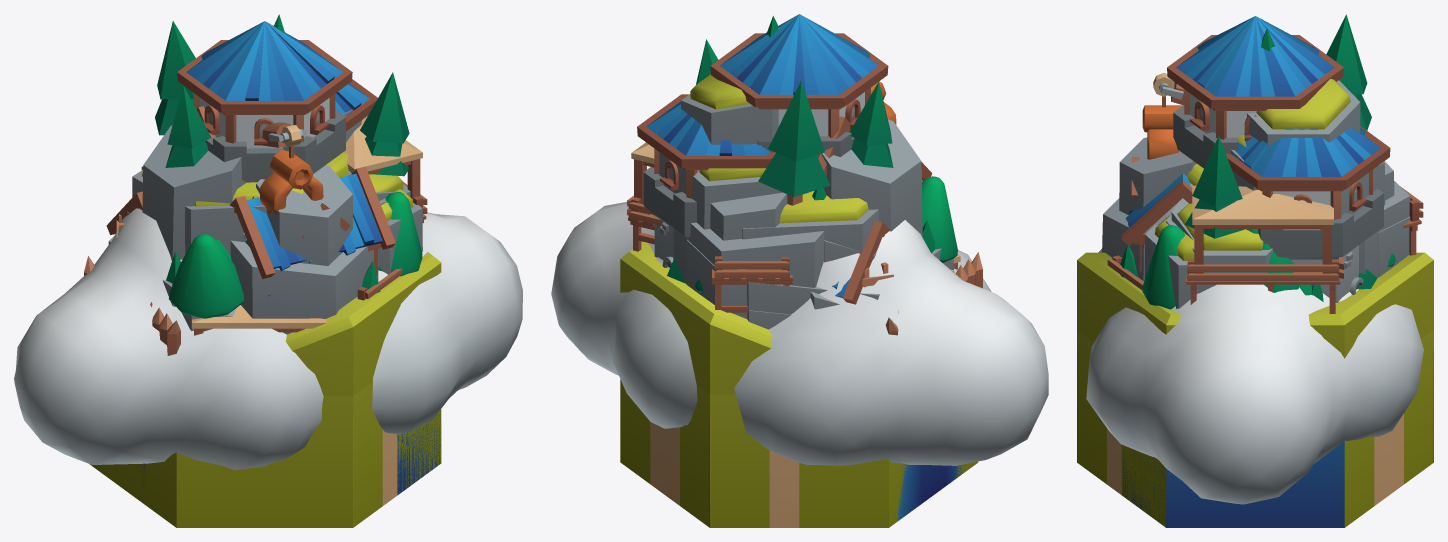
File: lands.glb
3 views of the same model, side by side, from view 1: azimuth 30°, elevation 25°; view 2: azimuth 150°, elevation 25°; view 3: azimuth 270°, elevation 25° (orthographic).
Visible parts, largest first — view 1: cloud_big, mountain_C, hex_river_B, building_tower_A_top_blue, mountain_A_grass_trees, hex_grass_sloped_low, trees_B_large, building_watermill_blue, building_scaffolding, hex_river_crossing_A, building_tower_A_blue, building_lumbermill_top_blue (+8 smaller); view 2: cloud_big, mountain_C, mountain_A_grass_trees, building_tower_A_top_blue, building_archeryrange_blue, mountain_B_grass, hex_river_crossing_A, hex_grass_sloped_low, hex_coast_E, building_scaffolding, hex_road_E, hex_road_B (+9 smaller); view 3: cloud_big, building_archeryrange_blue, hex_grass_sloped_low, building_tower_A_top_blue, building_scaffolding, mountain_B_grass, hex_coast_D, mountain_C, mountain_A_grass_trees, hex_road_B, hex_road_E, hex_river_crossing_A (+10 smaller).
Boxes of the visible parts, x1=… form: cloud_big: x1=14, y1=208, x2=522, y2=470; mountain_C: x1=141, y1=125, x2=394, y2=334; hex_river_B: x1=140, y1=396, x2=353, y2=527; building_tower_A_top_blue: x1=177, y1=21, x2=352, y2=148; mountain_A_grass_trees: x1=132, y1=14, x2=422, y2=274; hex_grass_sloped_low: x1=285, y1=252, x2=441, y2=483; trees_B_large: x1=169, y1=191, x2=422, y2=318; building_watermill_blue: x1=230, y1=166, x2=395, y2=296; building_scaffolding: x1=116, y1=116, x2=427, y2=335; hex_river_crossing_A: x1=353, y1=382, x2=397, y2=527; building_tower_A_blue: x1=205, y1=109, x2=345, y2=182; building_lumbermill_top_blue: x1=196, y1=106, x2=323, y2=214; cloud_big: x1=551, y1=202, x2=1048, y2=465; mountain_C: x1=673, y1=119, x2=953, y2=287; mountain_A_grass_trees: x1=696, y1=16, x2=921, y2=329; building_tower_A_top_blue: x1=710, y1=14, x2=888, y2=138; building_archeryrange_blue: x1=637, y1=94, x2=889, y2=304; mountain_B_grass: x1=659, y1=74, x2=941, y2=320; hex_river_crossing_A: x1=710, y1=394, x2=799, y2=527; hex_grass_sloped_low: x1=620, y1=241, x2=772, y2=394; hex_coast_E: x1=799, y1=459, x2=888, y2=527; building_scaffolding: x1=627, y1=142, x2=960, y2=312; hex_road_E: x1=620, y1=379, x2=679, y2=504; hex_road_B: x1=674, y1=385, x2=709, y2=527; cloud_big: x1=1086, y1=249, x2=1423, y2=504; building_archeryrange_blue: x1=1226, y1=126, x2=1390, y2=302; hex_grass_sloped_low: x1=1077, y1=252, x2=1433, y2=527; building_tower_A_top_blue: x1=1167, y1=16, x2=1343, y2=140; building_scaffolding: x1=1101, y1=185, x2=1423, y2=313; mountain_B_grass: x1=1166, y1=74, x2=1385, y2=292; hex_coast_D: x1=1123, y1=351, x2=1433, y2=527; mountain_C: x1=1102, y1=137, x2=1410, y2=281; mountain_A_grass_trees: x1=1145, y1=14, x2=1371, y2=308; hex_road_B: x1=1374, y1=330, x2=1433, y2=505; hex_road_E: x1=1344, y1=415, x2=1403, y2=527; hex_river_crossing_A: x1=1077, y1=331, x2=1121, y2=494.
Bounding box in the file's own units: 3.61 × 3.19 × 2.31.
Materials: 1 (1 with a texture image).
